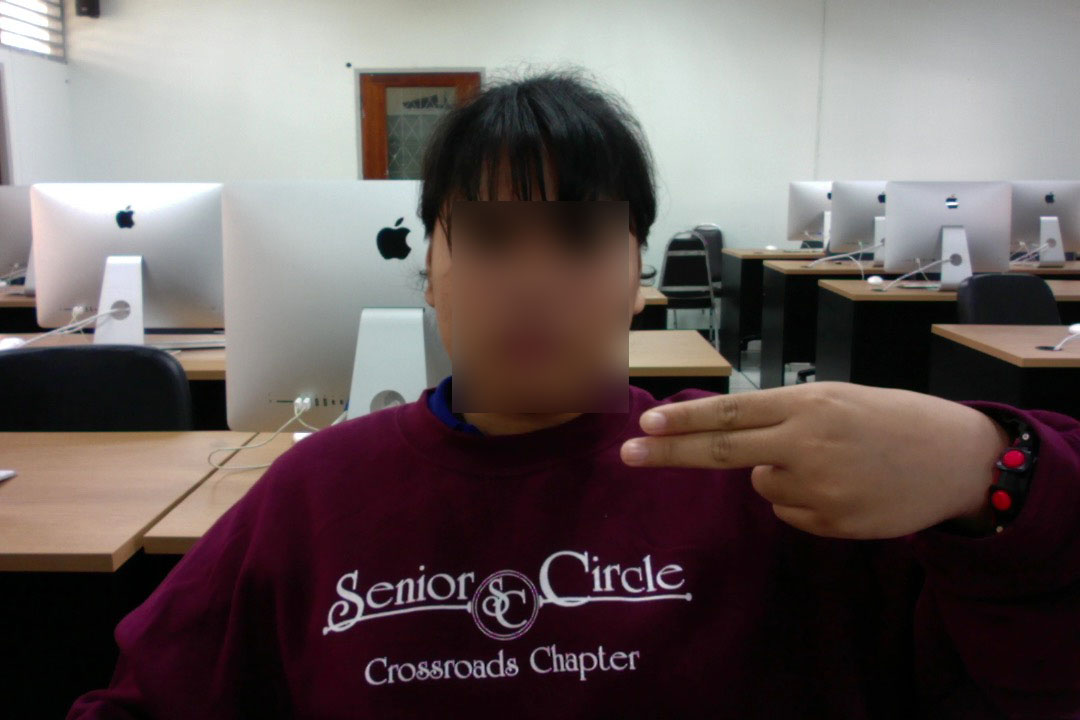hor: (612, 373, 1027, 544)
